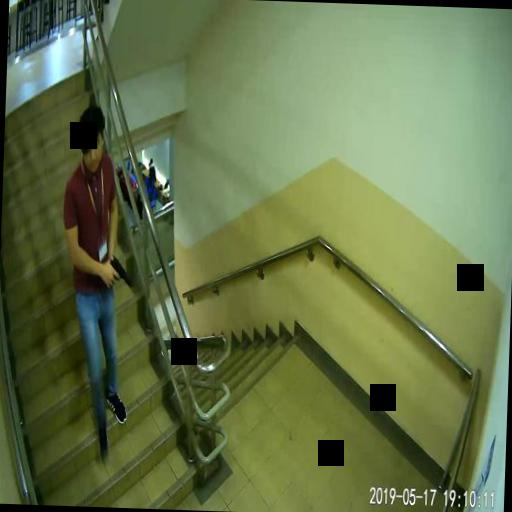Handgun: (107, 254, 132, 284)
